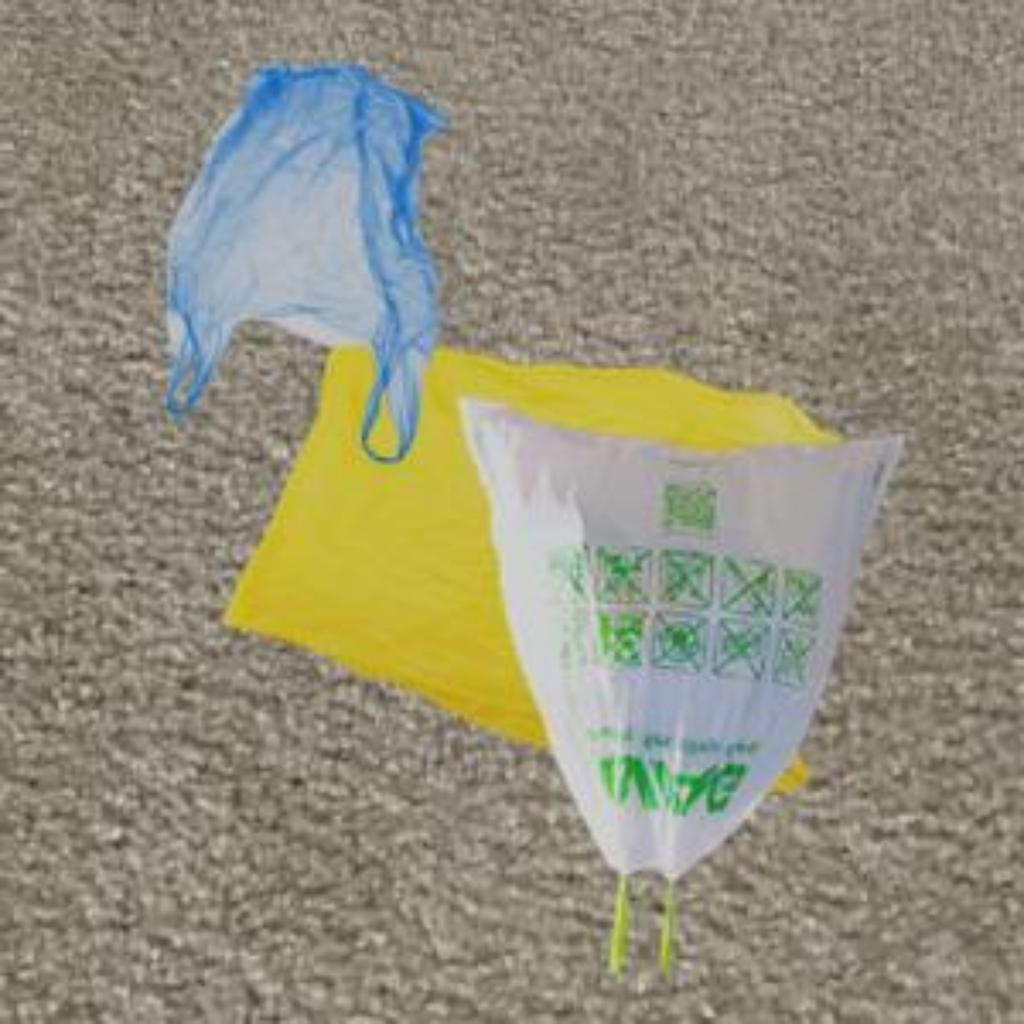garbage: (377, 396, 920, 1014), (191, 326, 826, 739), (128, 60, 459, 459)
